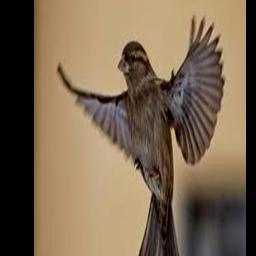Sparrow: (58, 15, 225, 256)
